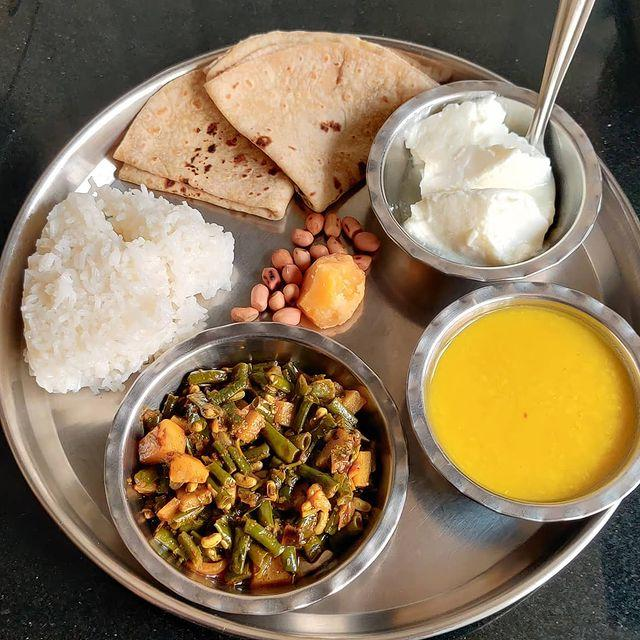Roti: (99, 20, 432, 212)
White Rice: (31, 175, 245, 409)
